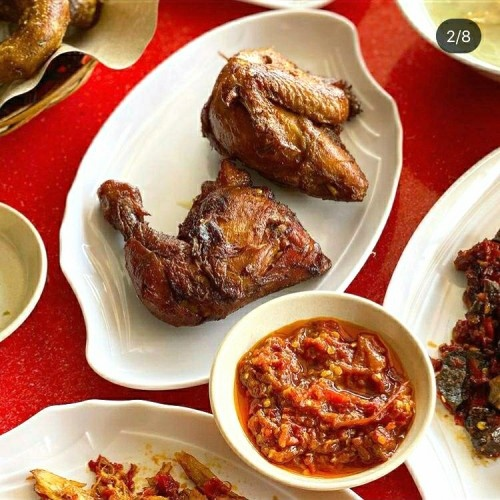ayam_goreng: (57, 156, 343, 326), (183, 33, 392, 223)
